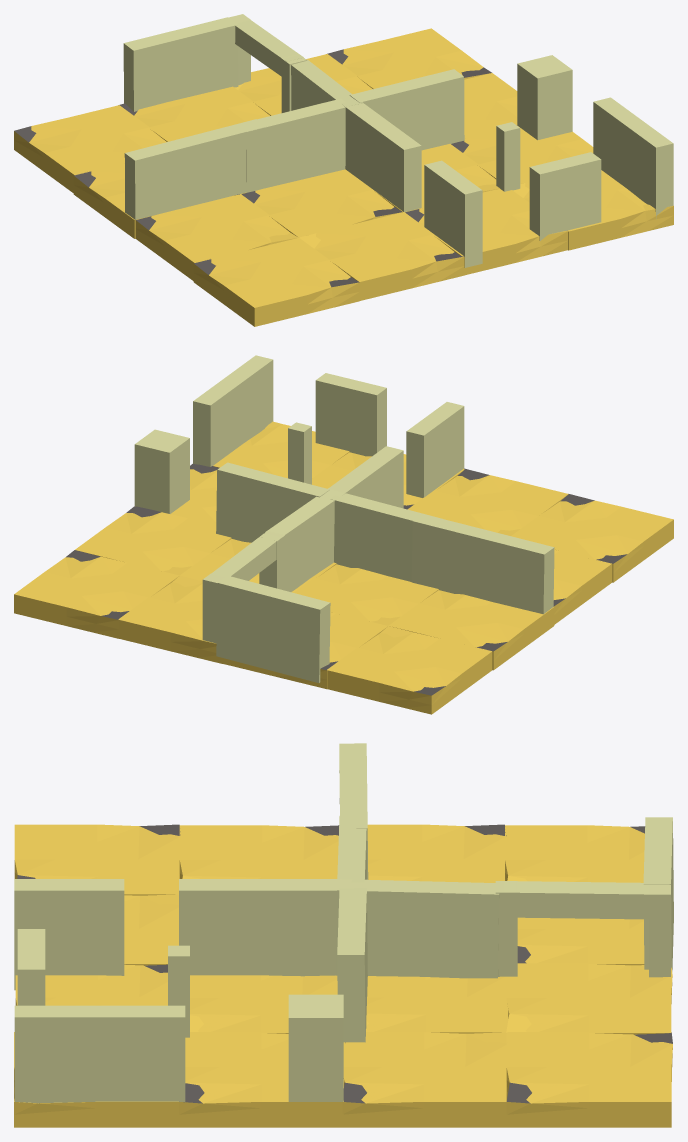
File: BACKROOMS_POLY_GAME1.glb
3 views of the same model, one above another, from view 1: azimuth 30°, elevation 25°; view 2: azimuth 150°, elevation 25°; view 3: azimuth 270°, elevation 25° (orthographic). The views are drawn at different scales.
Parts seen in each view (by area): view 1: Cube.029, Cube.011, Cube.028, Cube.025, Cube.027, Cube.006, Cube.014, Cube.007, Cube.026, Cube.005, Cube.024, Cube.020 (+16 smaller); view 2: Cube.011, Cube.014, Cube.025, Cube.020, Cube.029, Cube.012, Cube.007, Cube.018, Cube.028, Cube.006, Cube.024, Cube.019 (+16 smaller); view 3: Cube.007, Cube.020, Cube.018, Cube.005, Cube.023, Cube, Cube.019, Cube.029, Cube.009, Cube.027, Cube.014, Cube.017 (+16 smaller).
Boxes of the visible parts, bbox=[...] form: Cube.029: bbox=[193, 238, 359, 326]; Cube.011: bbox=[124, 119, 265, 219]; Cube.028: bbox=[299, 212, 464, 300]; Cube.025: bbox=[123, 17, 238, 111]; Cube.027: bbox=[135, 194, 299, 280]; Cube.006: bbox=[246, 98, 345, 192]; Cube.014: bbox=[14, 105, 166, 192]; Cube.007: bbox=[593, 97, 673, 218]; Cube.026: bbox=[242, 169, 402, 237]; Cube.005: bbox=[345, 103, 421, 212]; Cube.024: bbox=[349, 69, 464, 150]; Cube.020: bbox=[327, 28, 491, 88]; Cube.011: bbox=[411, 514, 554, 614]; Cube.014: bbox=[327, 626, 492, 714]; Cube.025: bbox=[216, 575, 330, 682]; Cube.020: bbox=[14, 550, 178, 638]; Cube.029: bbox=[511, 494, 673, 582]; Cube.012: bbox=[388, 590, 554, 670]; Cube.007: bbox=[193, 355, 273, 466]; Cube.018: bbox=[75, 506, 231, 575]; Cube.028: bbox=[407, 468, 568, 535]; Cube.006: bbox=[330, 493, 442, 581]; Cube.024: bbox=[216, 462, 329, 542]; Cube.019: bbox=[118, 575, 223, 663]; Cube.007: bbox=[14, 1005, 185, 1103]; Cube.020: bbox=[506, 1032, 672, 1127]; Cube.018: bbox=[342, 1032, 507, 1127]; Cube.005: bbox=[179, 879, 338, 976]; Cube.023: bbox=[336, 879, 499, 978]; Cube: bbox=[179, 1032, 345, 1127]; Cube.019: bbox=[506, 963, 672, 1034]; Cube.029: bbox=[14, 824, 180, 895]; Cube.009: bbox=[14, 879, 124, 990]; Cube.027: bbox=[179, 825, 339, 878]; Cube.014: bbox=[505, 825, 645, 882]; Cube.017: bbox=[366, 976, 509, 1033].
Bounding box in the file's own units: 23.89 × 4.53 × 24.
